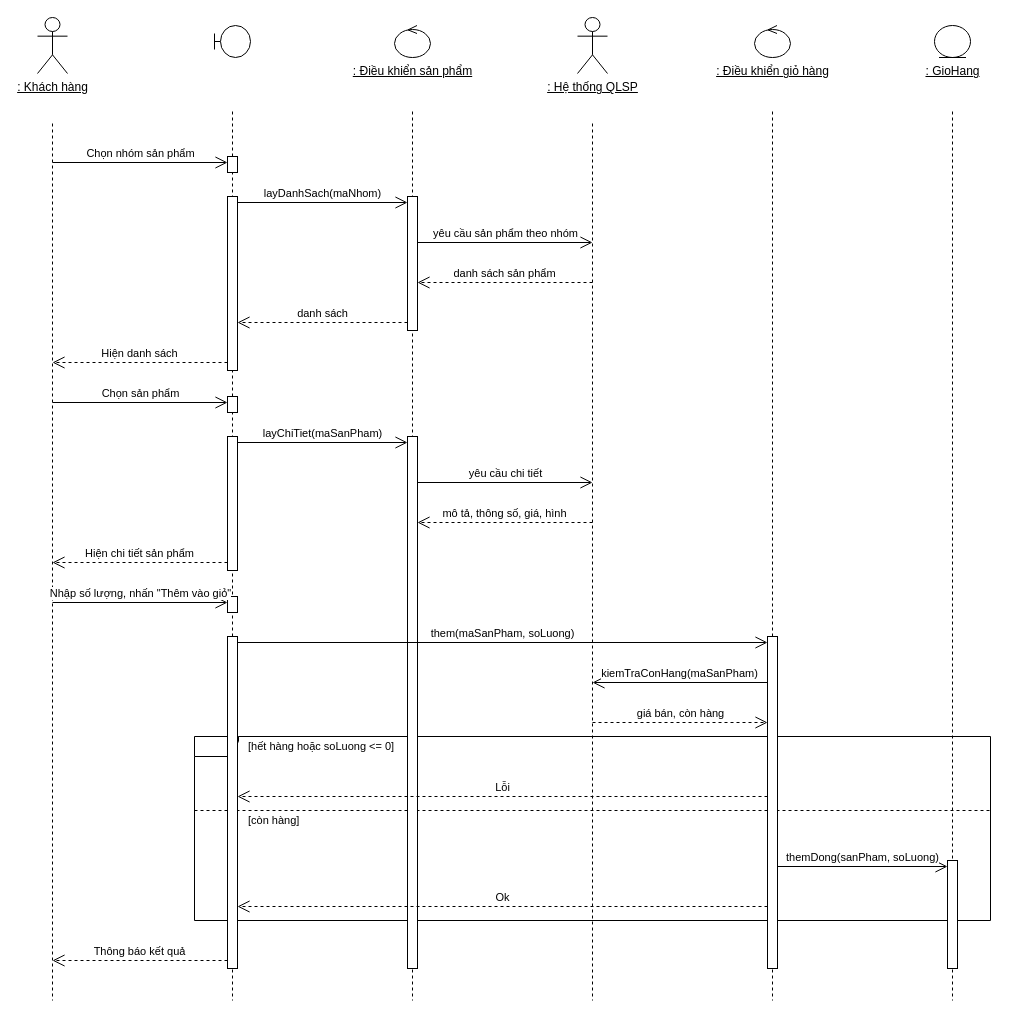
Some shapes in this 1009 by 1019 pixel diagram are drawn without their labels. The shapes that lost their labels are listed below. From the top down, each one's box as (x1, y1, x2, y2) in pixels, then its label:
(214, 24, 250, 58): : Màn hình sản phẩm
(194, 736, 990, 920): alt
